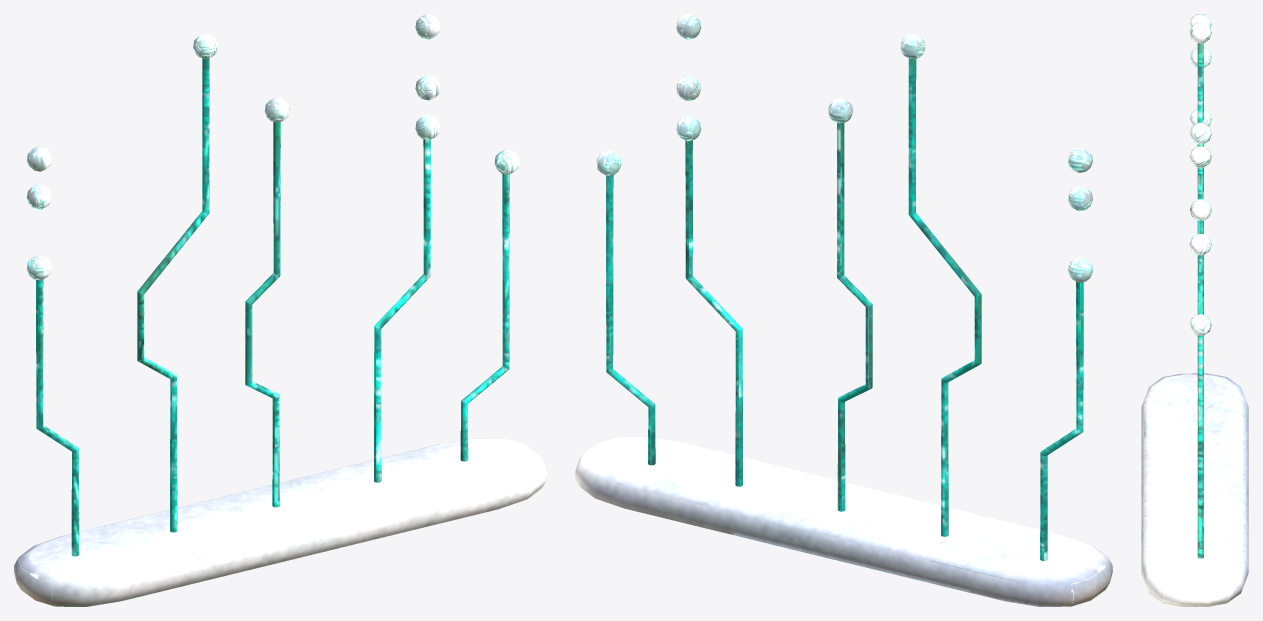
The model's file is TableLight.glb.
The picture shows the model from 3 angles, left to right: view 1: azimuth 30°, elevation 25°; view 2: azimuth 150°, elevation 25°; view 3: azimuth 270°, elevation 25°; orthographic projection. The views are drawn at different scales.
Parts seen in each view (by area): view 1: 棱角球.016, 平面.008; view 2: 棱角球.016, 平面.008; view 3: 棱角球.016, 平面.008.
Boxes of the visible parts, x1=… form: 棱角球.016: x1=14, y1=14, x2=546, y2=606; 平面.008: x1=36, y1=58, x2=509, y2=556; 棱角球.016: x1=575, y1=14, x2=1112, y2=606; 平面.008: x1=606, y1=58, x2=1083, y2=560; 棱角球.016: x1=1141, y1=14, x2=1248, y2=606; 平面.008: x1=1197, y1=43, x2=1203, y2=558.
Size of what is drawn, in the model's own units: 4.67 by 4.5 by 0.9724.
Materials: 1 (1 with a texture image).
